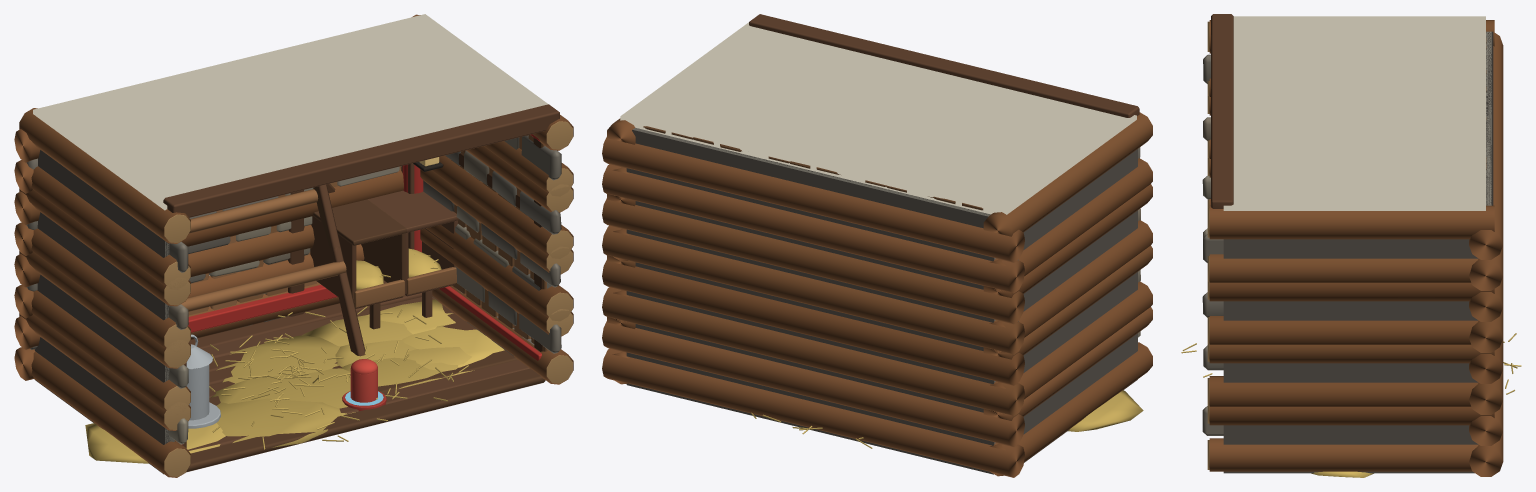
Rendered from interiors.glb.
3 views of the same model, side by side, from view 1: azimuth 30°, elevation 25°; view 2: azimuth 150°, elevation 25°; view 3: azimuth 270°, elevation 25° (orthographic).
Visible parts, largest first — view 1: inside_rir, inside_bra, inside_orp, inside_leg, inside_sil; view 2: inside_bra, inside_orp, inside_leg, inside_rir; view 3: inside_bra, inside_orp, inside_leg, inside_rir.
Part boxes in pixels (bbox=[...]): inside_rir: bbox=[85, 104, 559, 472]; inside_bra: bbox=[14, 14, 573, 477]; inside_orp: bbox=[33, 14, 551, 443]; inside_leg: bbox=[26, 135, 561, 474]; inside_sil: bbox=[182, 134, 541, 444]; inside_bra: bbox=[602, 112, 1152, 477]; inside_orp: bbox=[620, 22, 1136, 443]; inside_leg: bbox=[626, 126, 1140, 474]; inside_rir: bbox=[643, 14, 1143, 448]; inside_bra: bbox=[1207, 20, 1503, 476]; inside_orp: bbox=[1223, 16, 1491, 210]; inside_leg: bbox=[1202, 31, 1493, 473]; inside_rir: bbox=[1181, 14, 1521, 477].
Bounding box in the file's own units: 1.77 × 1.08 × 1.19.
